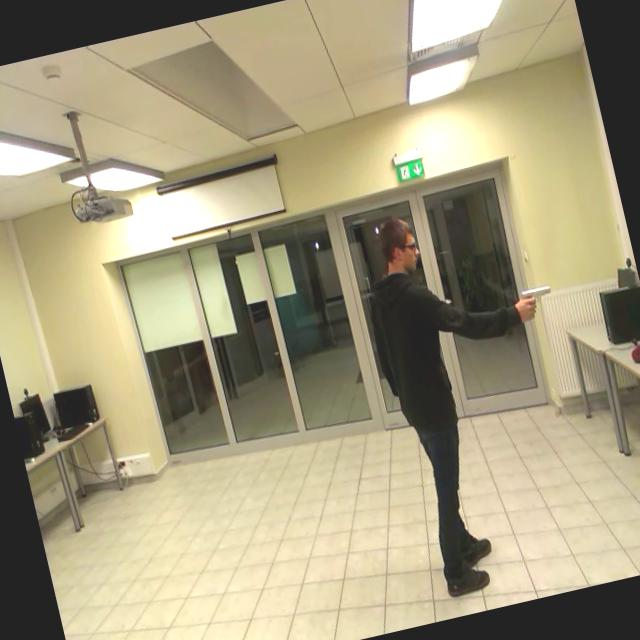handgun: (518, 274, 560, 326)
